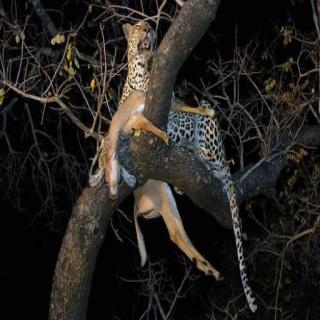Leopard: (108, 12, 167, 92)
